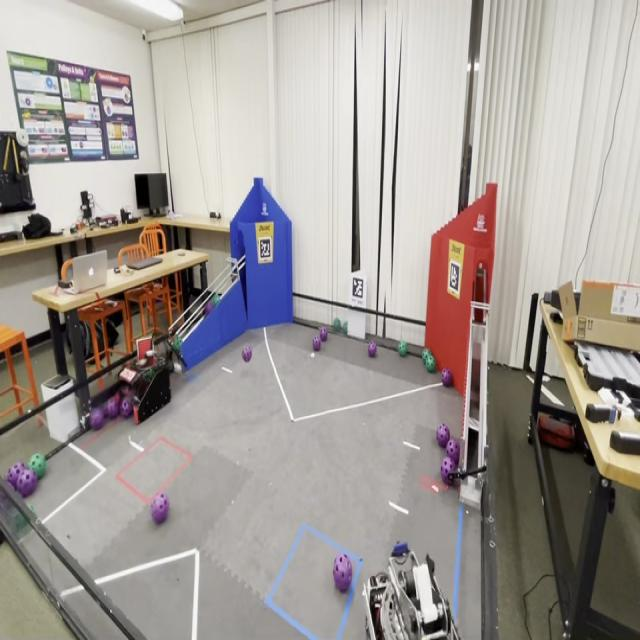artifact_green: (29, 453, 46, 479), (13, 512, 28, 536), (12, 512, 27, 535), (425, 354, 436, 373), (397, 340, 408, 357), (204, 300, 214, 316), (143, 369, 155, 381), (368, 341, 377, 357), (313, 335, 321, 350), (29, 504, 37, 519), (422, 349, 430, 363), (173, 336, 181, 350), (333, 317, 341, 330), (212, 293, 220, 305), (29, 505, 37, 517), (177, 335, 183, 349), (149, 369, 157, 379), (171, 336, 177, 349), (342, 322, 347, 334), (425, 348, 431, 354)
artifact_purple: (334, 554, 352, 592), (16, 469, 37, 497), (6, 462, 26, 489), (151, 494, 169, 523), (441, 457, 456, 484), (104, 394, 119, 419), (446, 439, 459, 464), (436, 424, 450, 447), (90, 407, 104, 430), (120, 396, 133, 418), (442, 368, 452, 387), (242, 345, 251, 362), (368, 342, 377, 357), (204, 300, 213, 315), (313, 336, 321, 350), (320, 326, 327, 341)
